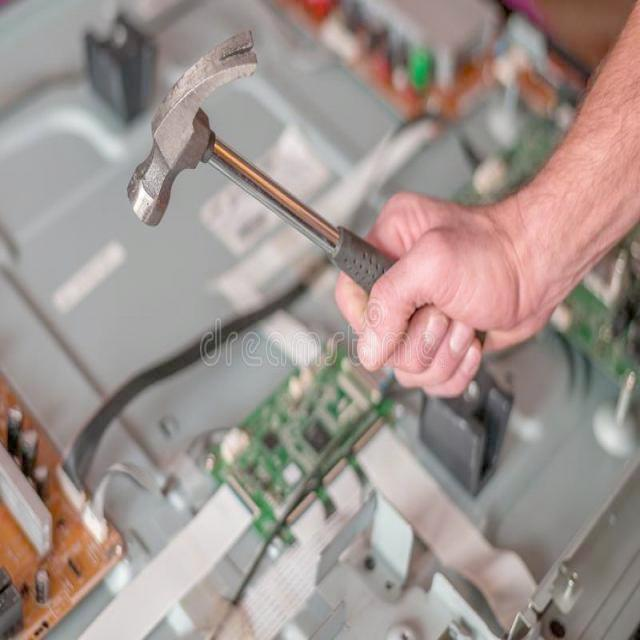hammer: (126, 26, 500, 391)
